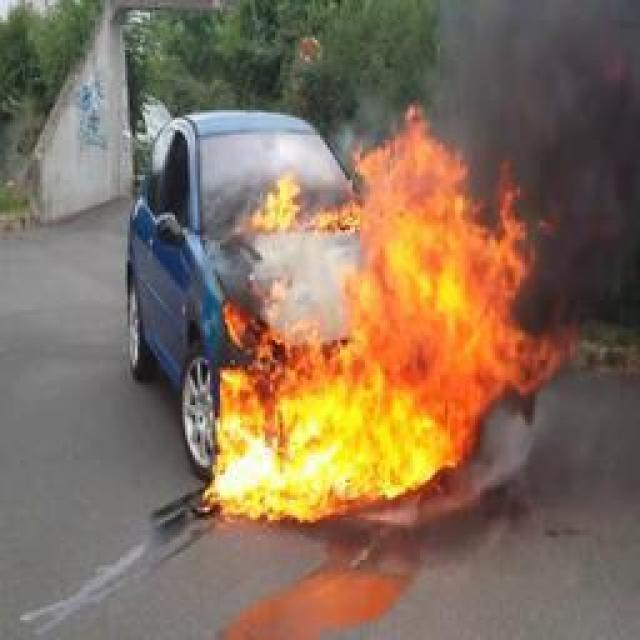Fire: (198, 109, 574, 524), (249, 170, 359, 232)
